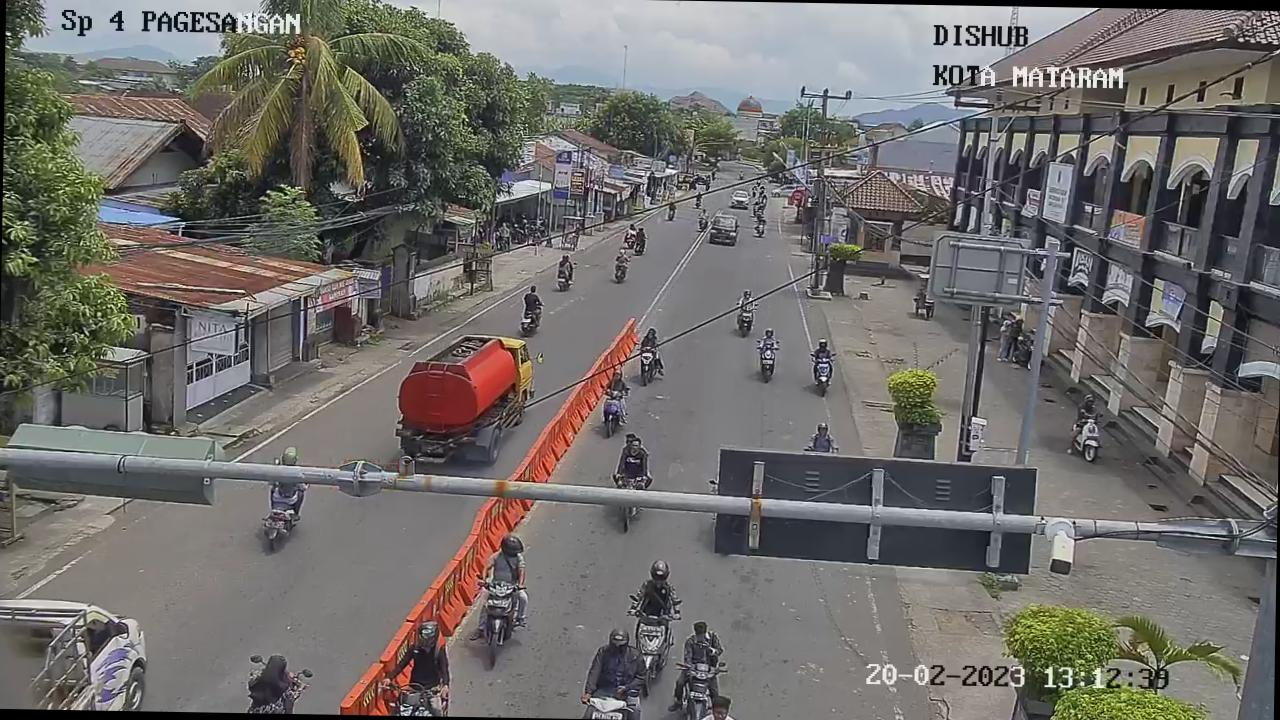car: (705, 209, 740, 248), (728, 188, 752, 211)
motorcycle: (472, 570, 532, 671), (622, 591, 685, 679), (668, 656, 728, 720), (596, 382, 632, 436), (1074, 410, 1106, 464), (632, 342, 666, 388), (806, 352, 838, 398), (754, 339, 782, 385), (734, 300, 758, 338), (751, 223, 766, 240), (697, 216, 707, 234)
person: (586, 624, 650, 710), (391, 616, 456, 692), (242, 651, 310, 714), (630, 558, 682, 620), (676, 616, 727, 674), (480, 533, 530, 590), (611, 428, 653, 486), (804, 416, 840, 456), (1073, 391, 1102, 424), (600, 366, 628, 398), (520, 284, 544, 316), (809, 335, 836, 363), (638, 322, 661, 352), (756, 324, 779, 348), (734, 286, 756, 308), (557, 251, 574, 277), (614, 248, 631, 266), (624, 222, 638, 240), (634, 226, 648, 243), (754, 214, 768, 229), (698, 208, 708, 220), (668, 200, 677, 212)
truck: (388, 324, 540, 474)
